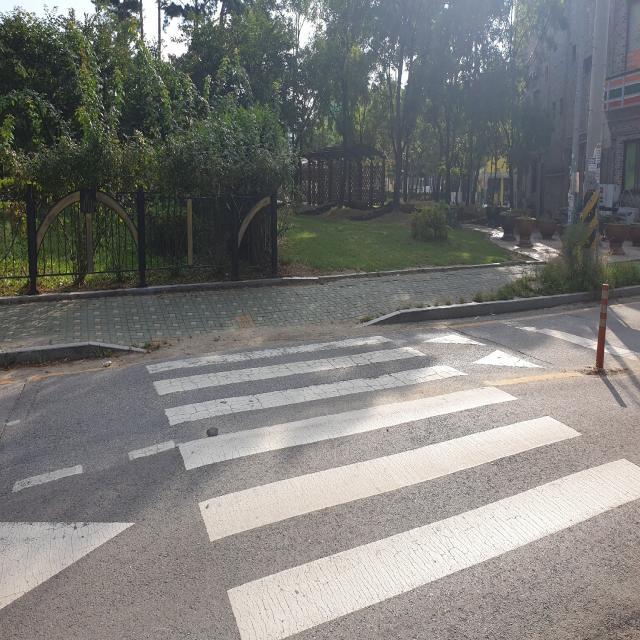횡단보도: (141, 326, 640, 640)
